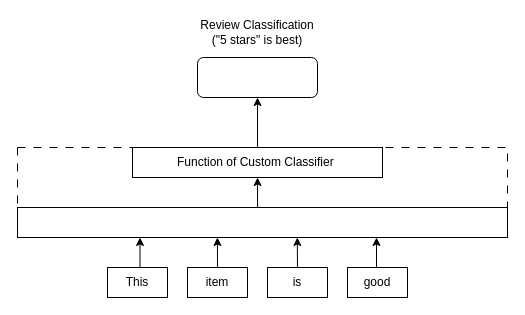
Some shapes in this 525 by 315 pixel diagram are drawn without their labels. The shapes that lost their labels are listed below. From the top down, each one's centre as x and y in pixels, then its label:
(x=257, y=77): "4 stars"
(x=262, y=222): Pre-Training Model of BERT
